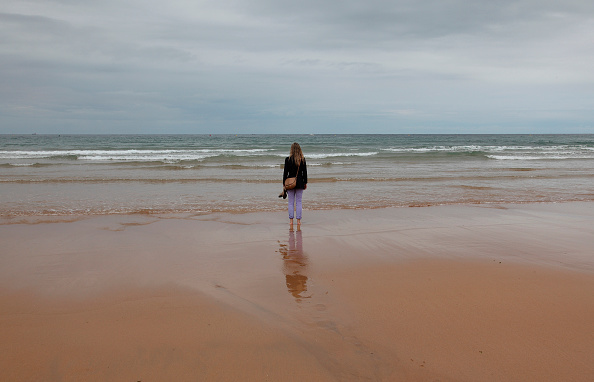em pe: (275, 142, 311, 238)
